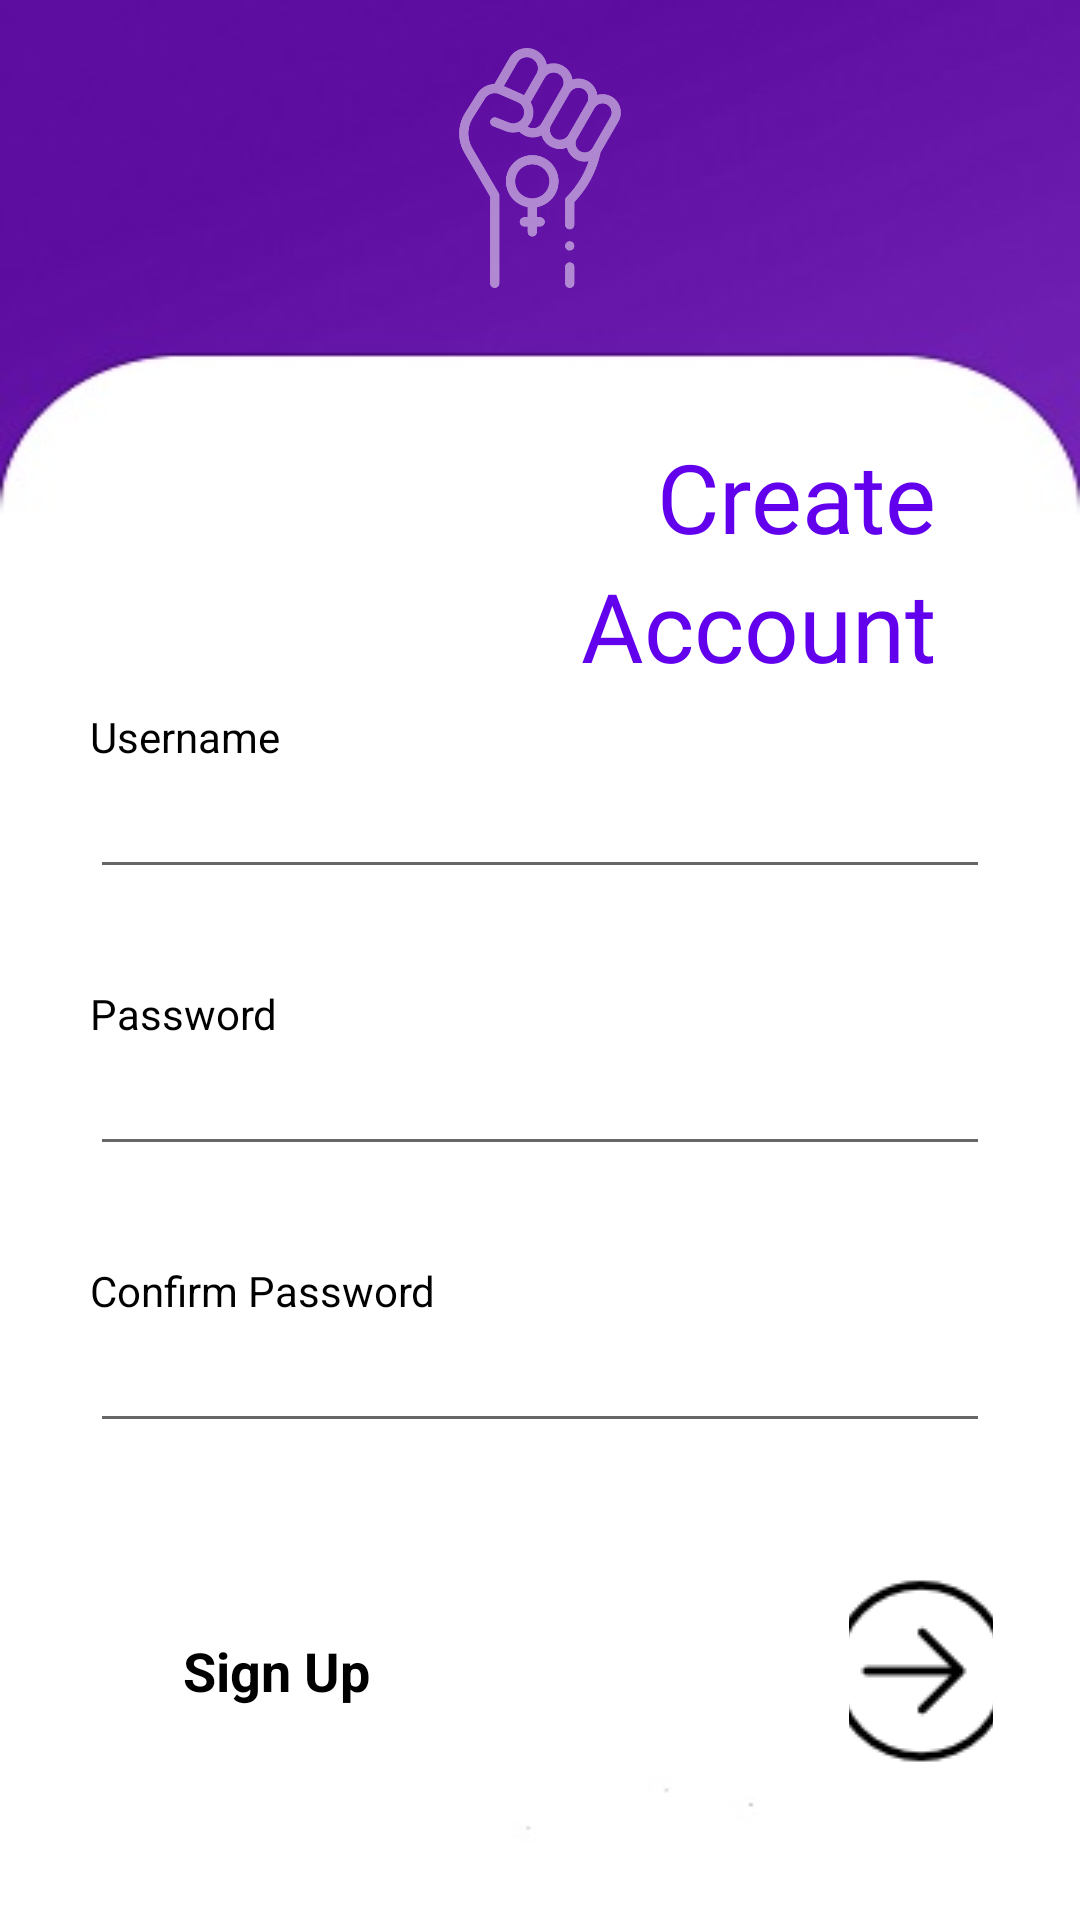

Screen size 1080x1920. Icon name, then its box in pixels as (x1, y1, x2, y2):
btnnext: (849, 1580, 993, 1762)
girlpower: (459, 48, 621, 288)
